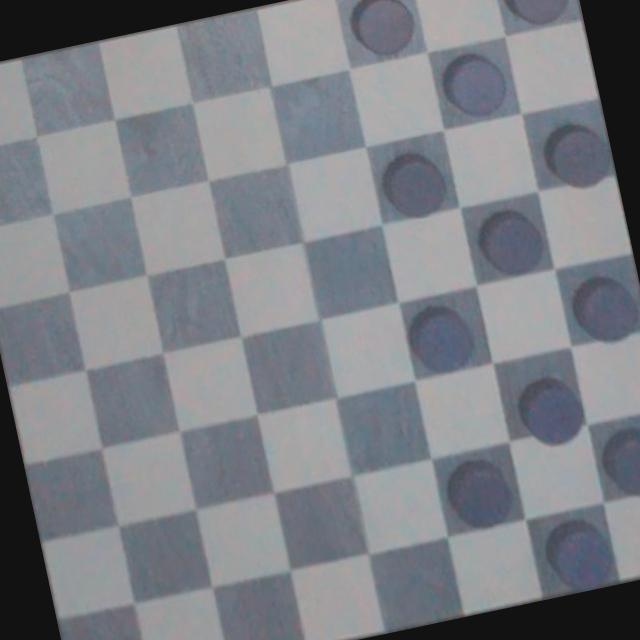BOARD: (0, 0, 640, 640)
black: (401, 281, 484, 381), (538, 109, 618, 200), (512, 364, 594, 452), (438, 446, 520, 532), (566, 261, 640, 353), (471, 201, 554, 283), (375, 140, 452, 224), (541, 510, 615, 597), (438, 43, 515, 121), (343, 0, 422, 67), (595, 412, 640, 502), (498, 0, 575, 31)
